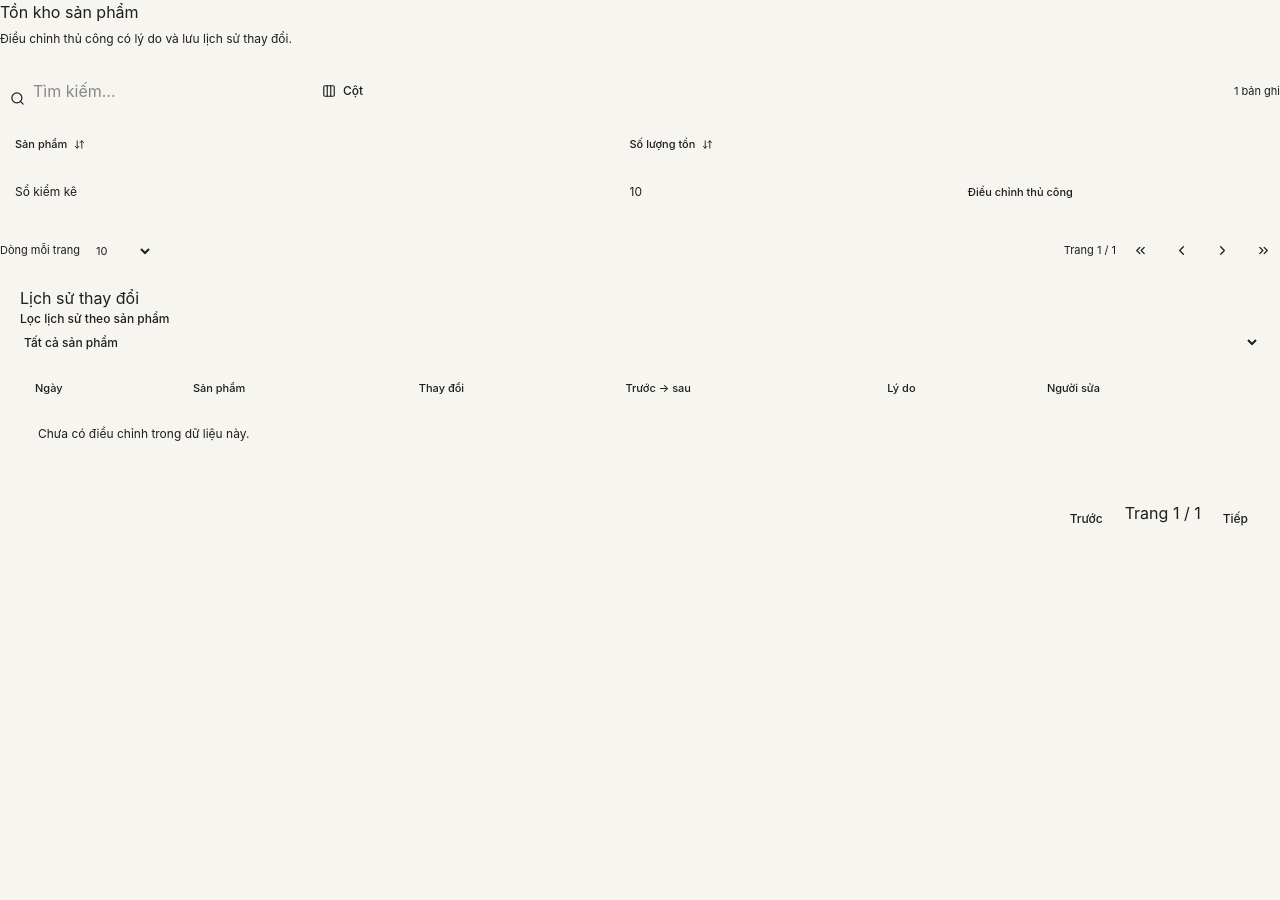
Test: shows three inventory columns and sends an adjustment to the server, refreshing stock and named history
Later steps or results of the test are not shown.
Click the button "Điều chỉnh thủ công". click: coordinates (1020, 192)
box: x1=959 y1=178 x2=1082 y2=206
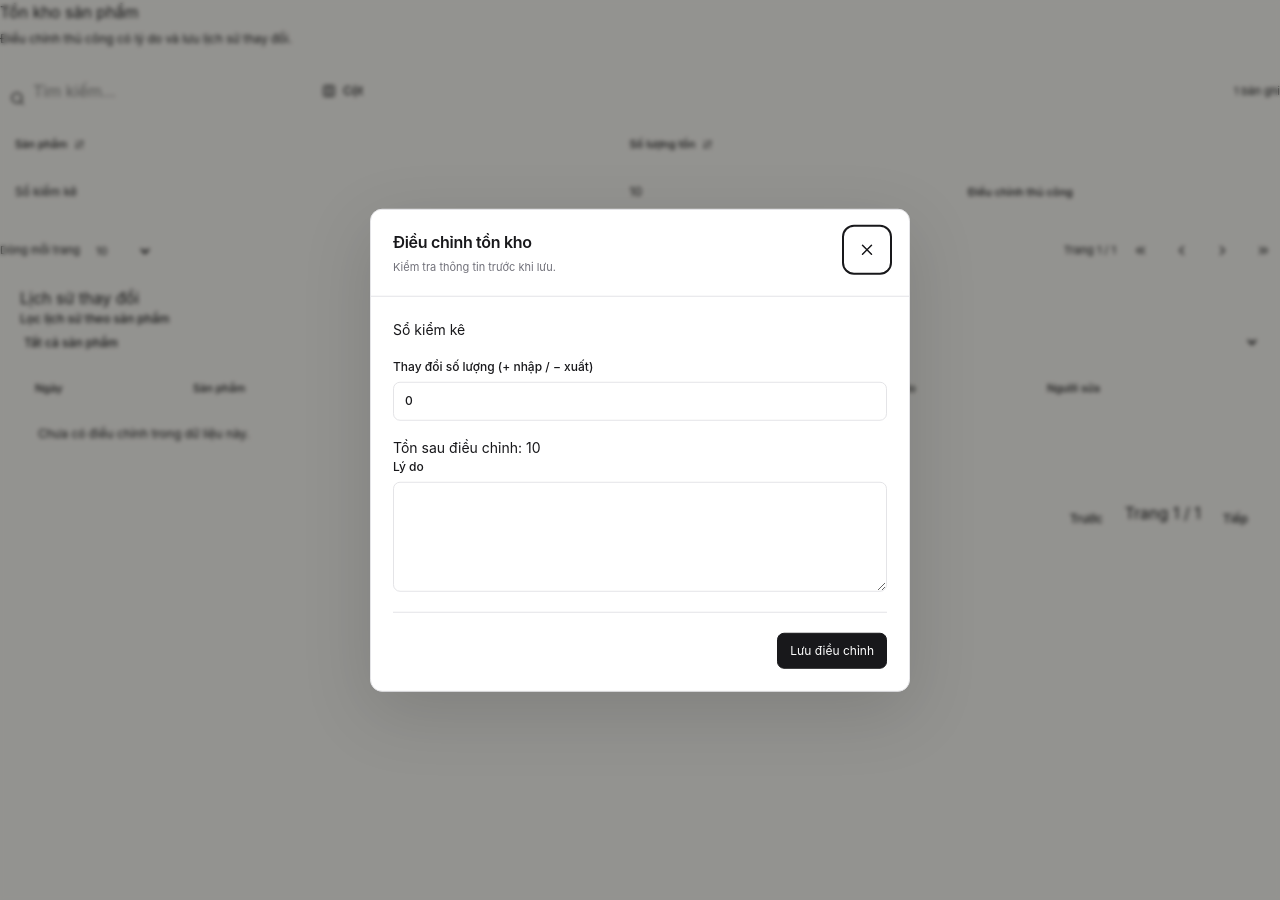
Replace the text in the number field with "2". click: coordinates (640, 401)
box: x1=393 y1=381 x2=887 y2=420
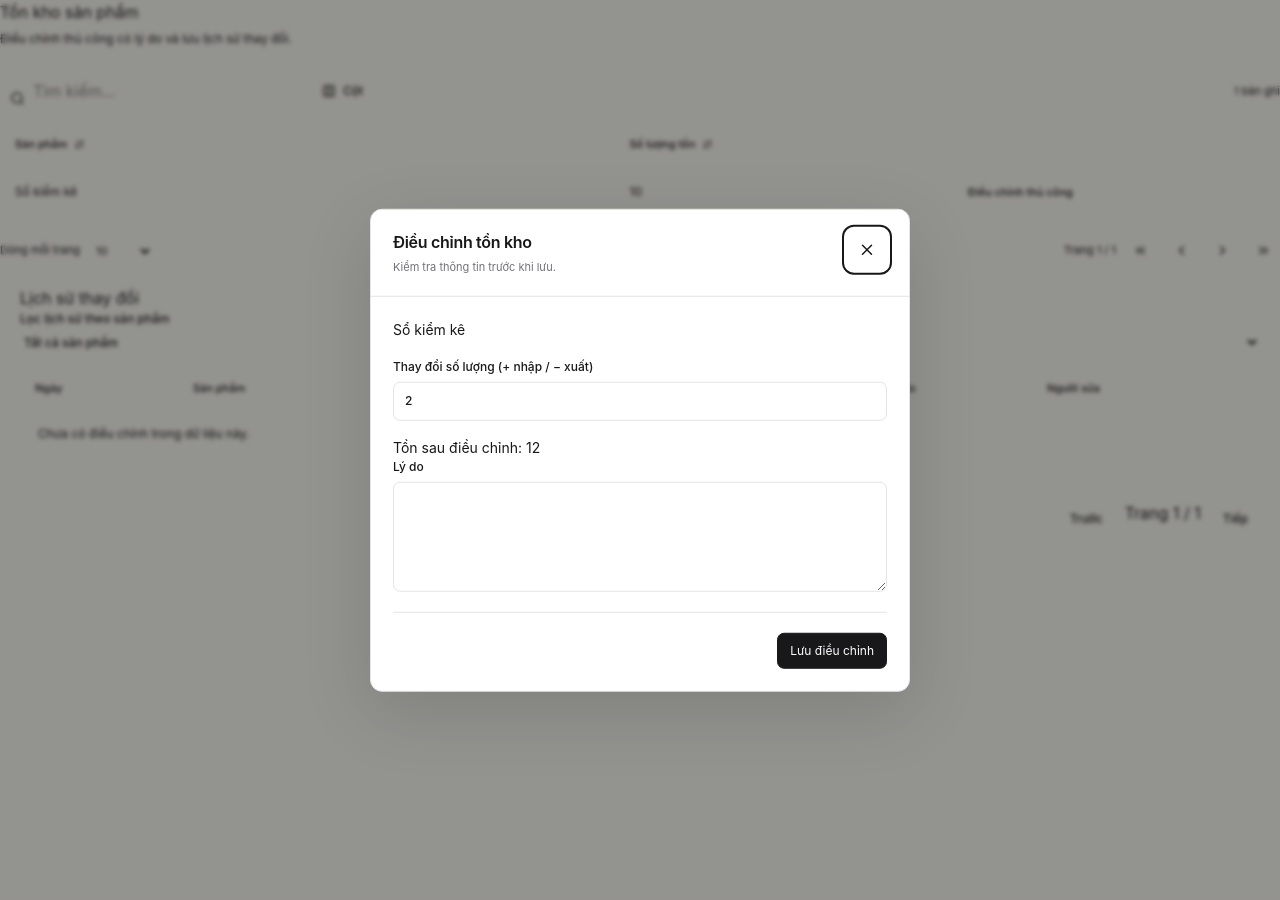
Type "Kiểm đếm" into the text box. click: coordinates (640, 536)
box: x1=393 y1=481 x2=887 y2=591
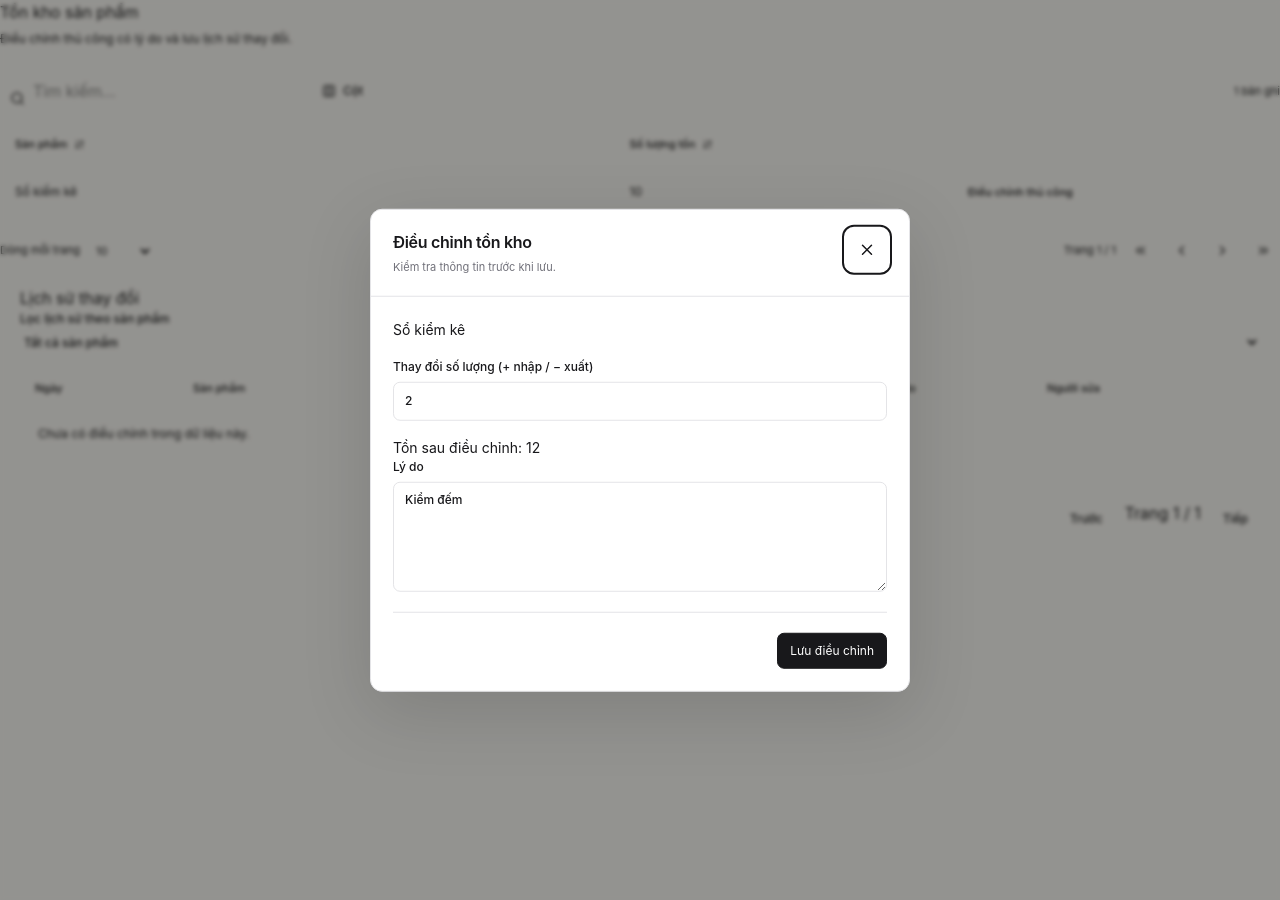
expect the text "Tồn sau điều chỉnh: 12" is shown: met, box x1=393 y1=438 x2=540 y2=455
Click the button "Lưu điều chỉnh". click: coordinates (832, 650)
box: x1=777 y1=632 x2=887 y2=668
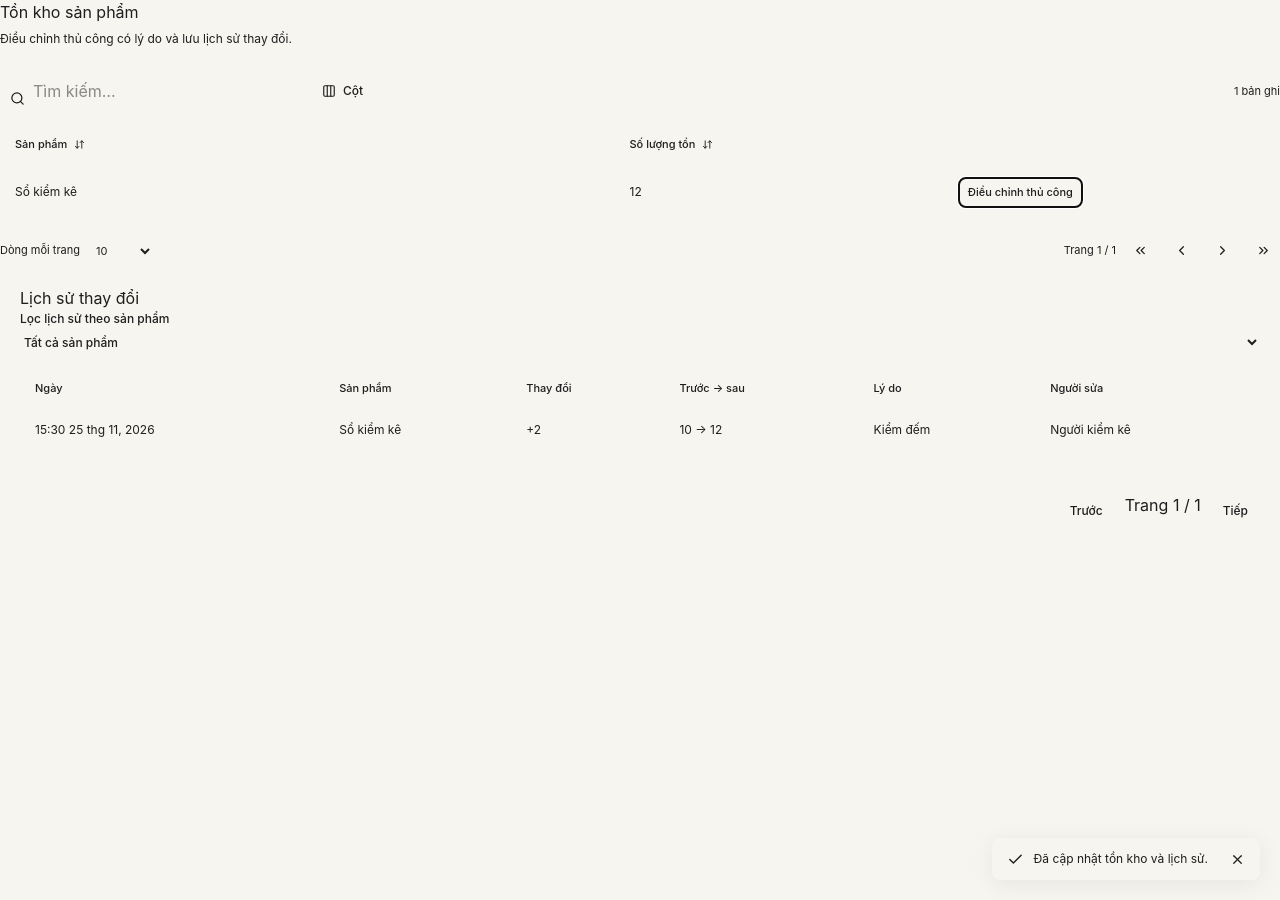
expect the dialog is gone: met
expect the text "12" is shown: met, box x1=614 y1=164 x2=944 y2=220
expect the text "Người kiểm kê" is shown: met, box x1=1035 y1=407 x2=1260 y2=453
